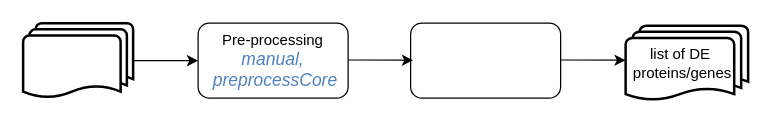
The diagram is 770 pixels wide and 123 high, and some of its shapes have lost their labels. Each missing label, with the centre of its shape:
"Differential Expression Analysis DEqMS" belongs at point (485, 60).
"raw data" belongs at point (77, 60).
